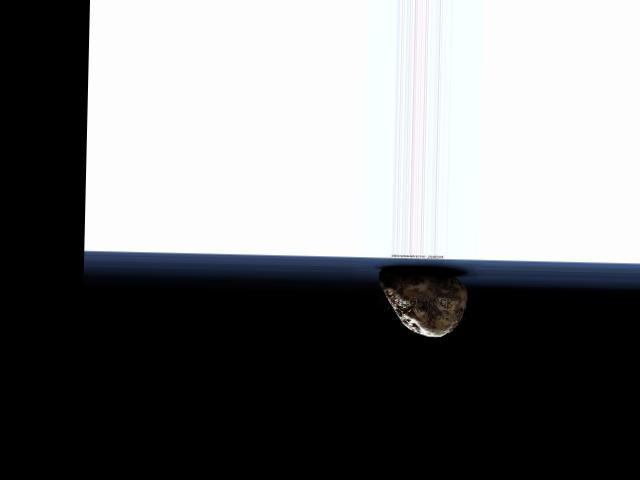beet: (379, 268, 469, 336)
